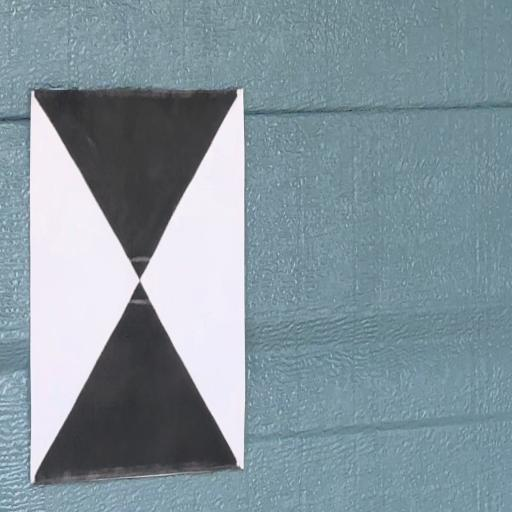target: (32, 90, 243, 470)
